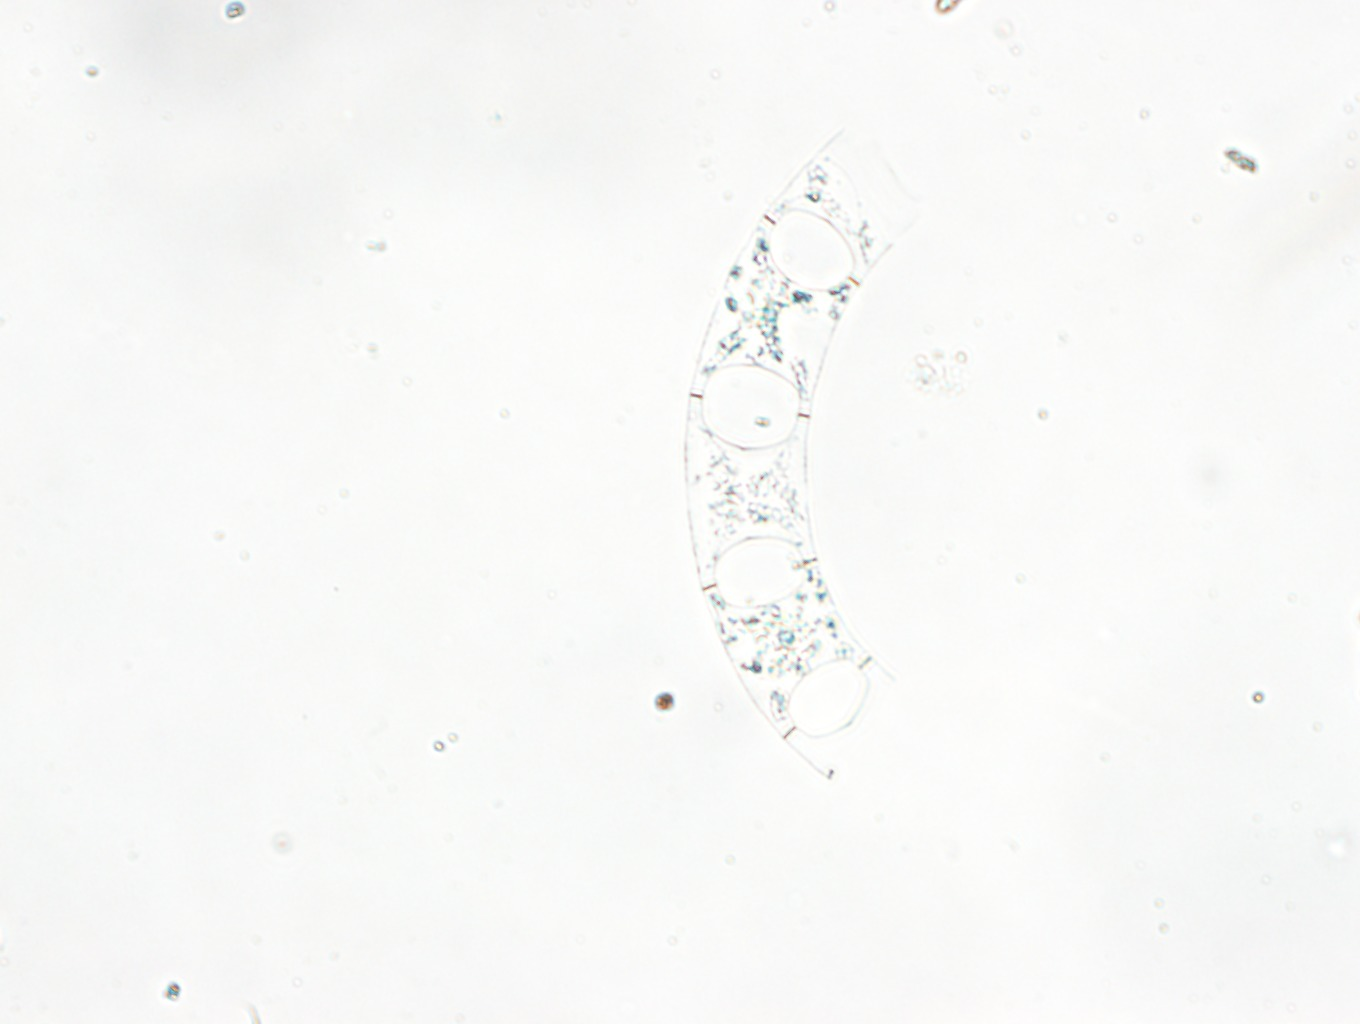eucampia: (683, 122, 922, 783)
